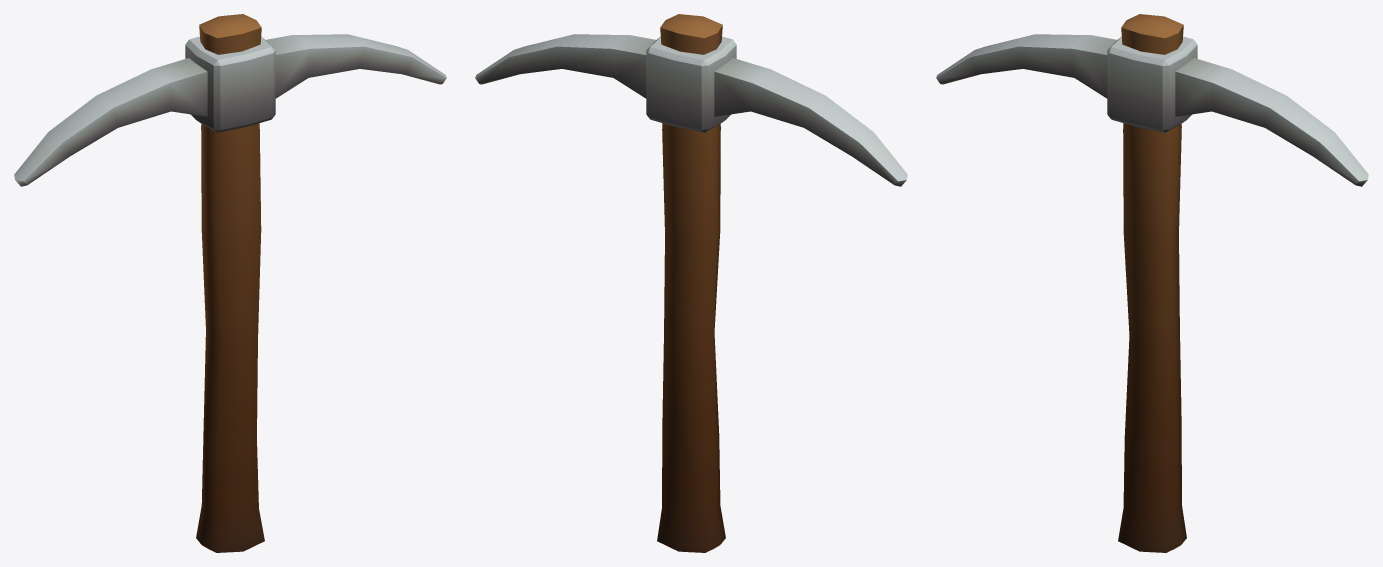
The model's file is Pickaxe_02.glb.
The picture shows the model from 3 angles, left to right: view 1: azimuth 30°, elevation 25°; view 2: azimuth 150°, elevation 25°; view 3: azimuth 330°, elevation 25°; orthographic projection.
Visible parts, largest first — view 1: Pickaxe_02; view 2: Pickaxe_02; view 3: Pickaxe_02.
Part boxes in pixels (x1=…): Pickaxe_02: x1=14, y1=14, x2=446, y2=552; Pickaxe_02: x1=475, y1=14, x2=907, y2=552; Pickaxe_02: x1=936, y1=14, x2=1368, y2=552.
Size of the model in its own units: 0.8812 by 1.03 by 0.1256.
1 material, 1 textured.
